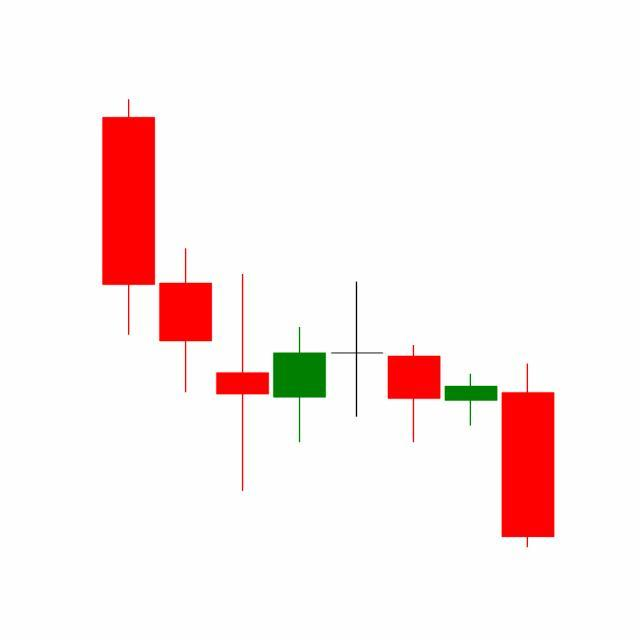Hikkake Pattern: (270, 278, 555, 548)
